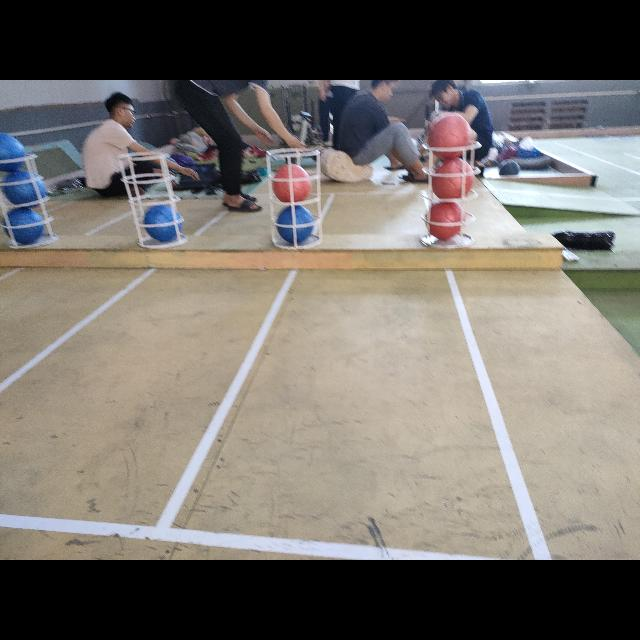B: (0, 170, 48, 208), (0, 208, 46, 245), (142, 203, 184, 241), (275, 205, 315, 242), (1, 132, 26, 172)
R: (428, 112, 474, 158), (270, 163, 312, 204), (432, 162, 473, 202), (423, 201, 462, 239)
